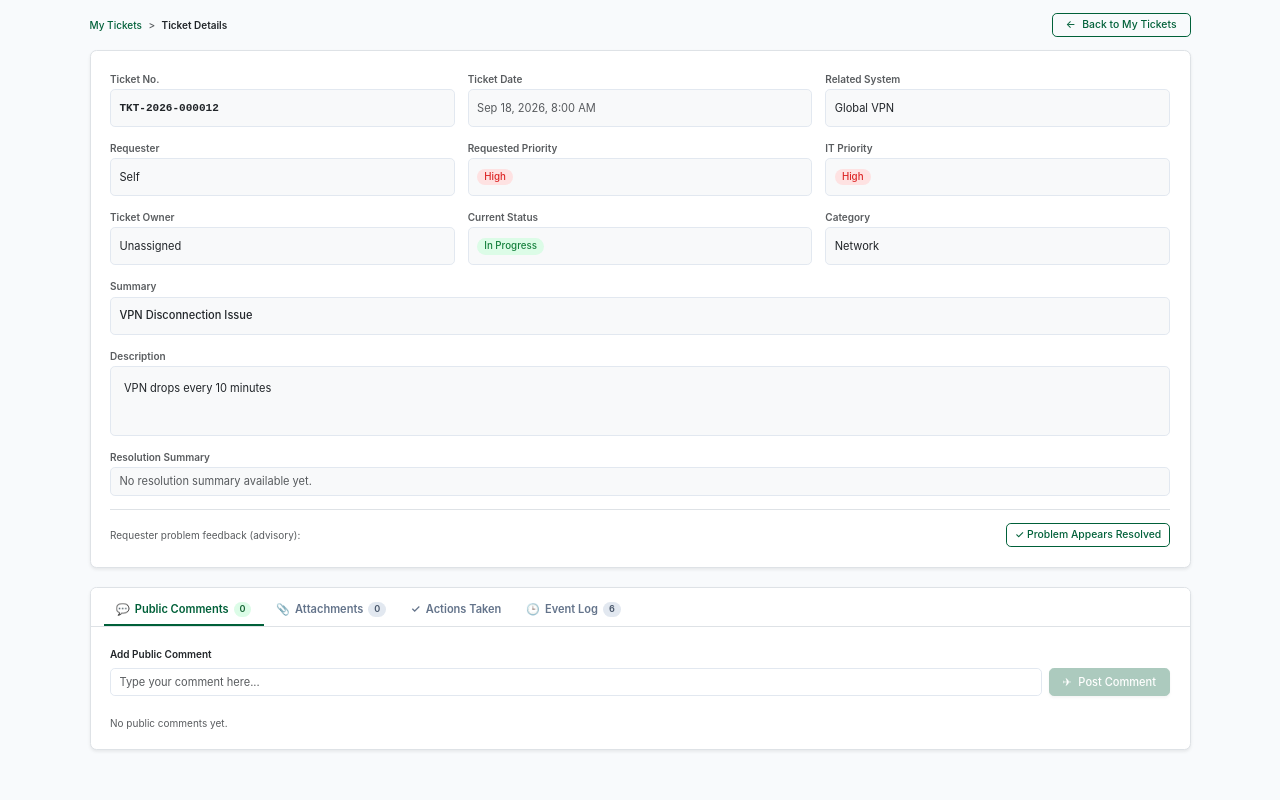
Test case: Lab 03 Requester Workflow UI Component Tests (TicketDetail) › renders 'Problem Appears Resolved' button and updates to badge when clicked
Expected: the text with test id "ticket-code" reads "TKT-2026-000012", [119,102,219,114]
What coordinates should you click on to do the following:
click the button with test id "indicate-resolved-btn"
I would click on:
 (1088, 535)
Its box is [1006,523,1170,547].
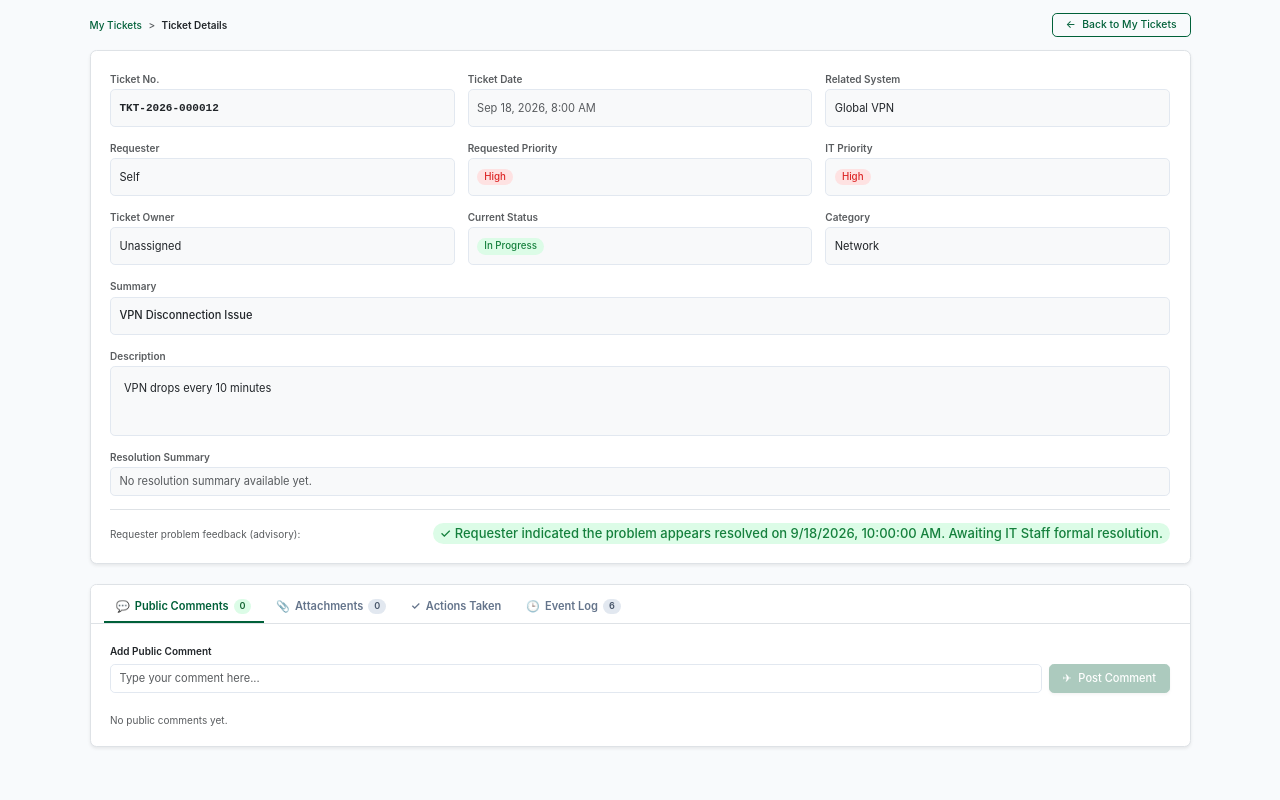
Expected: the text with test id "requester-resolved-badge" is shown, [433,523,1170,544]
Expected: the text with test id "requester-resolved-badge" shows "Awaiting IT Staff formal resolution", [941,525,1163,541]
